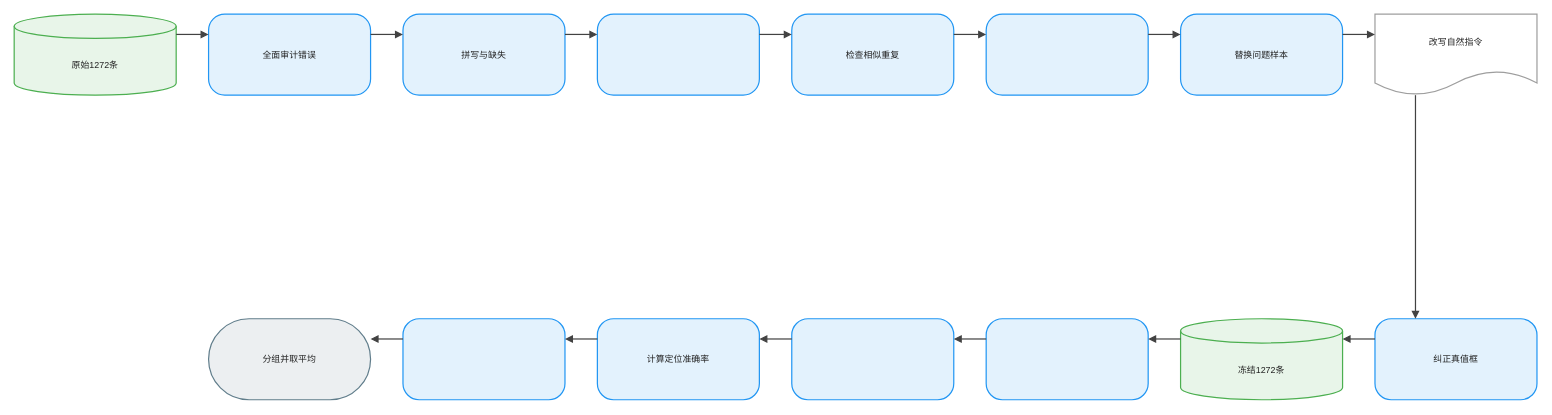
Image size: 1552x415. Some labels were removed from this diagram. The shapes that lost their labels are listed below. From the top down, each one's centre as x and y in pixels, then its label:
At (x=678, y=54): "检查歧义".
At (x=1066, y=54): "检查错误框".
At (x=483, y=359): "计算框IoU".
At (x=872, y=359): "预测目标位置".
At (x=1066, y=359): "选择评测模式".
